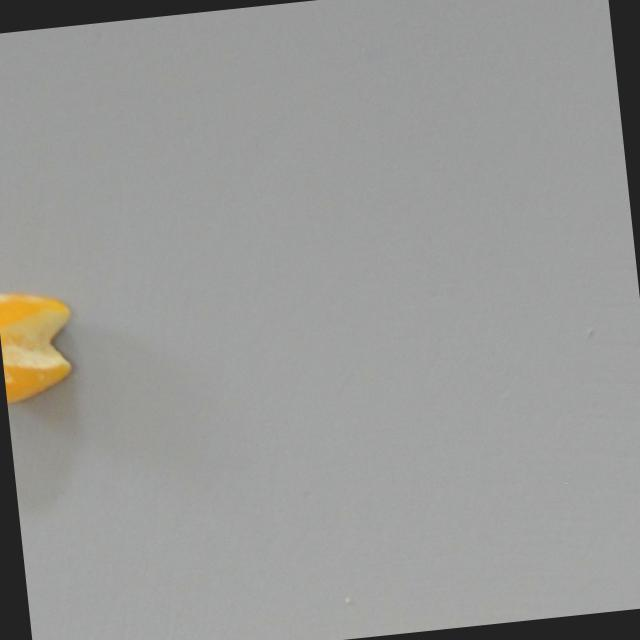pelicula: (0, 285, 80, 404)
